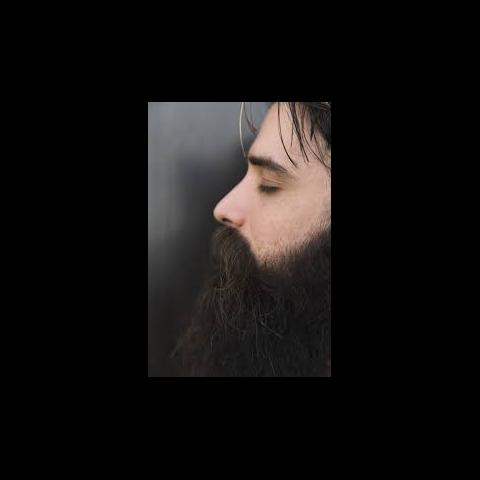closed: (242, 150, 296, 208)
